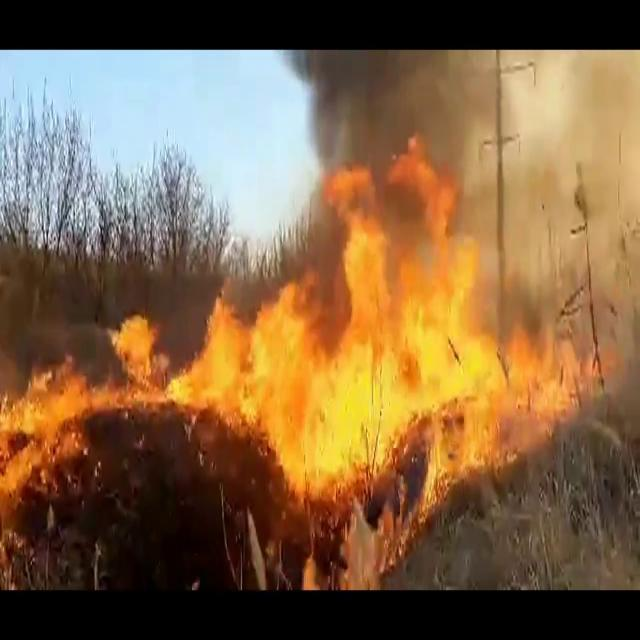Fire: (179, 226, 571, 528), (0, 360, 88, 564), (102, 306, 164, 372)
Smoke: (477, 52, 636, 330), (268, 52, 510, 234)
